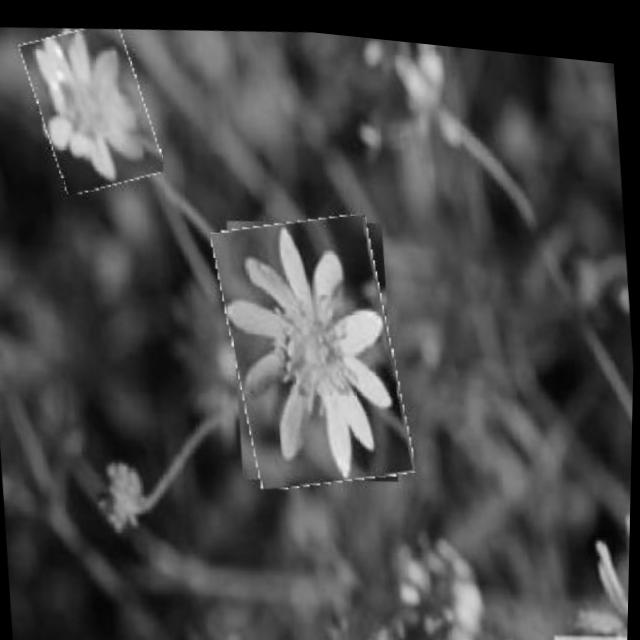Flower: (214, 196, 416, 494), (24, 17, 162, 199)
